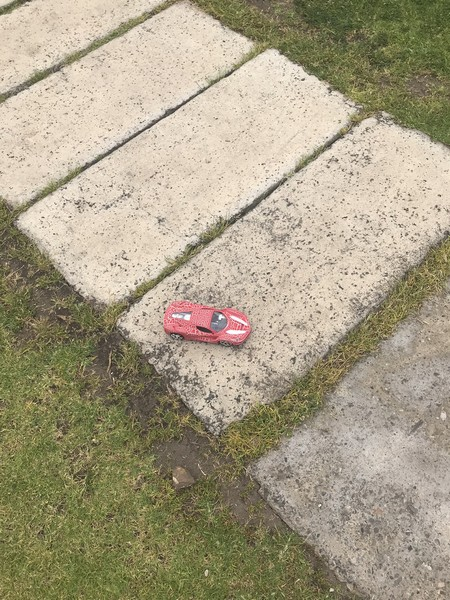RC: (162, 299, 253, 348)
